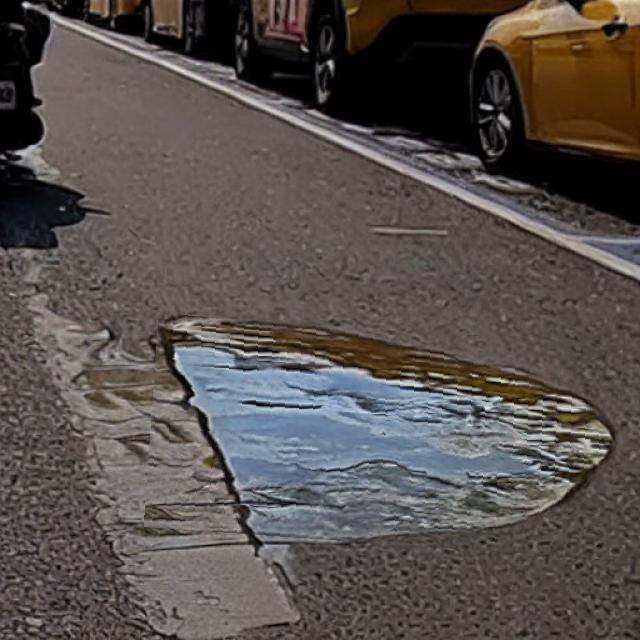puddle: (149, 323, 621, 553)
